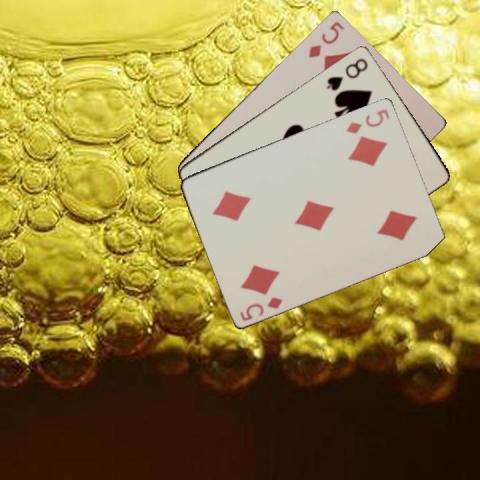5d: (305, 18, 346, 59), (344, 105, 392, 135), (236, 293, 284, 323)
8s: (324, 55, 370, 92)
